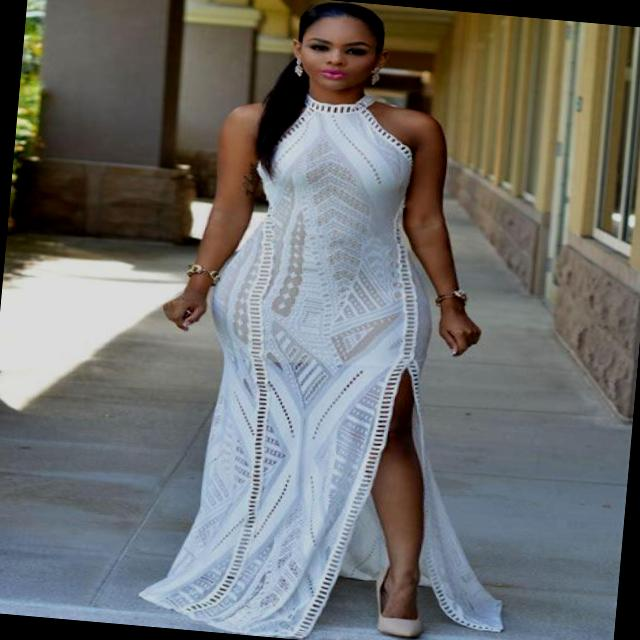dress: (137, 81, 544, 640)
